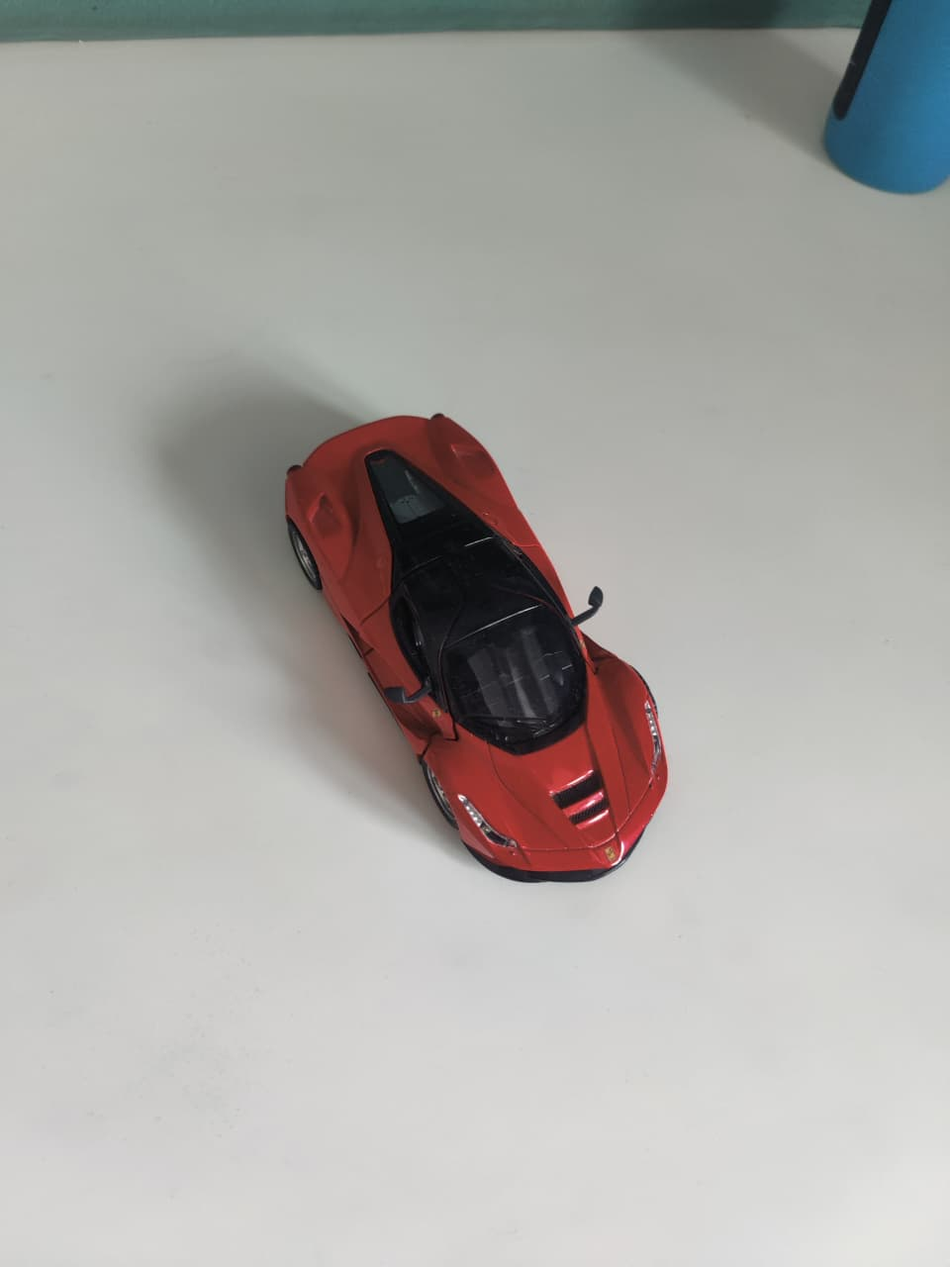car: (284, 411, 671, 885)
